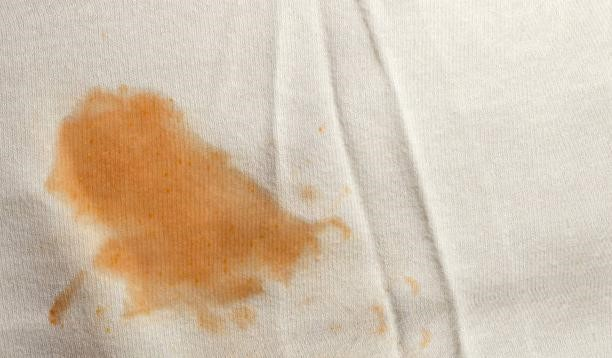stain: (44, 81, 355, 353), (47, 269, 94, 334), (368, 297, 387, 341), (402, 270, 424, 302), (415, 319, 436, 352)
